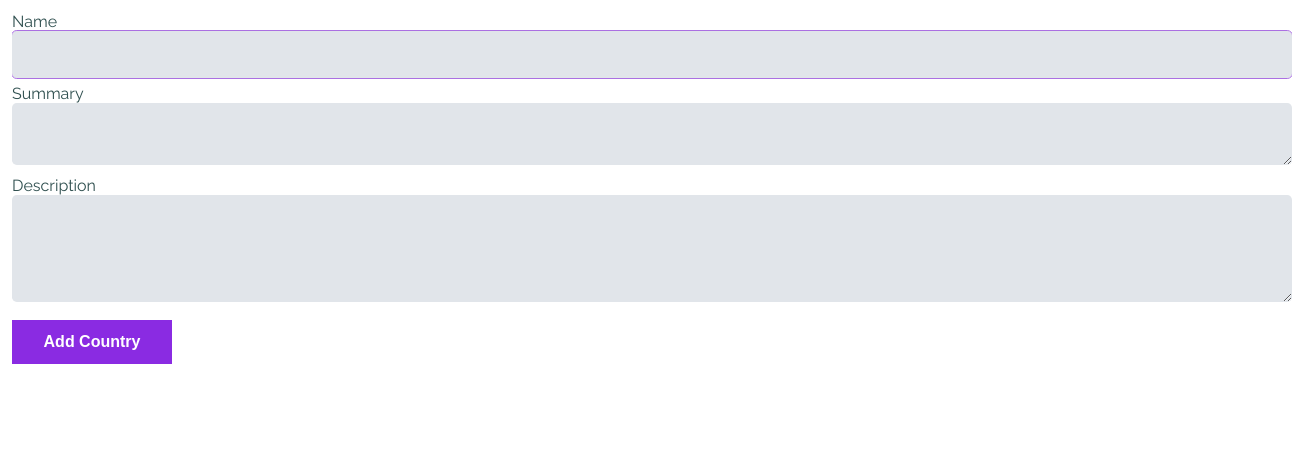
it: Adding a country, unhappy paths › clicking on the Add country button does not add the country when the name is invalid
Step 1. Type "test name 123" into the field labelled "Name" → (652, 54), box [12,31,1292,78]
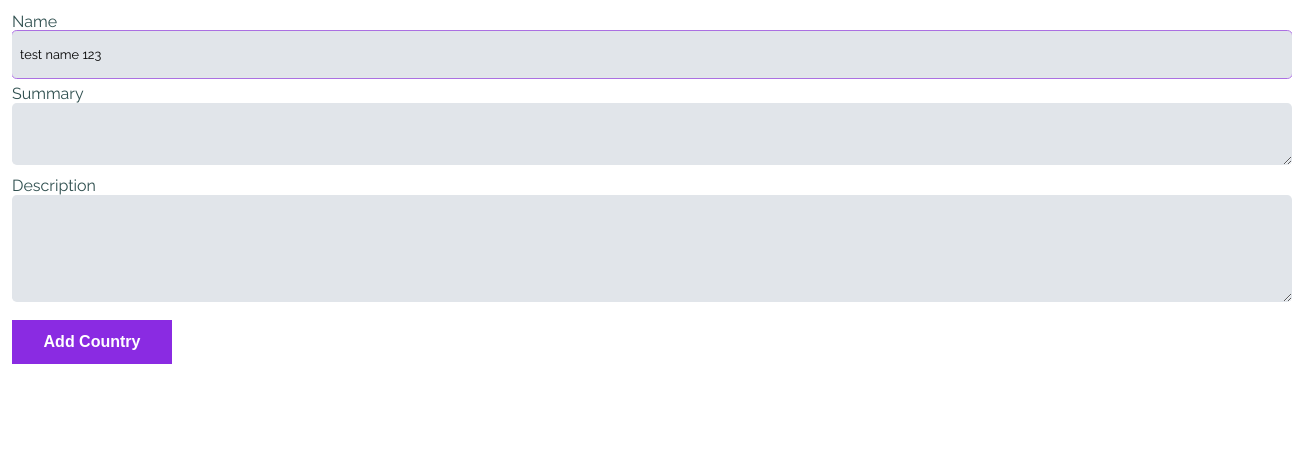
Step 2. Type "test description" into the text box labelled "Description" → (652, 248), box [12,195,1292,302]
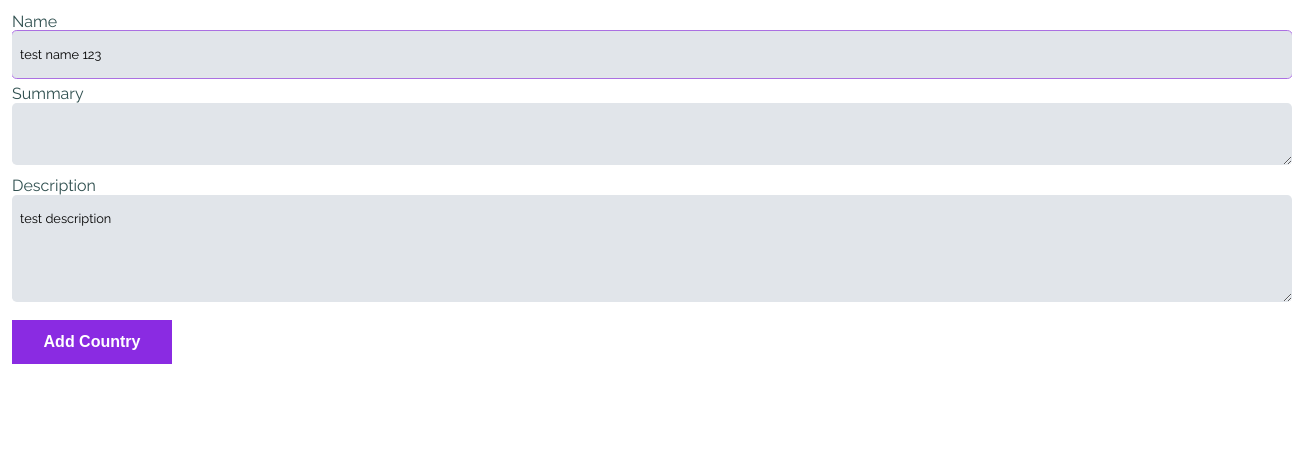
Step 3. Type "test summary" into the text box labelled "Summary" → (652, 134), box [12,103,1292,165]
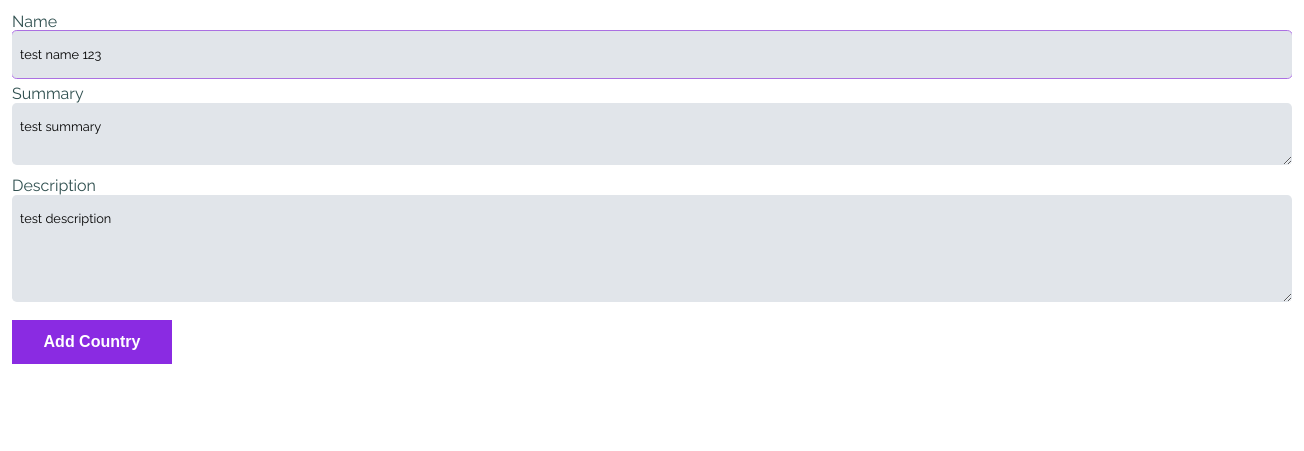
Step 4. Click the button "Add Country" → (92, 342), box [12,320,172,364]
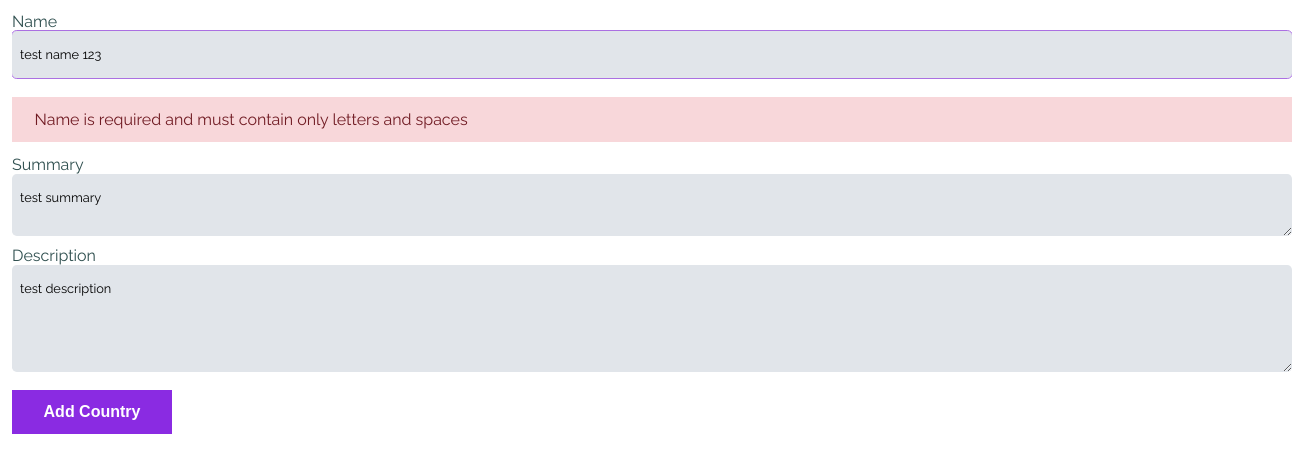
Now the text "Name is required and must contain only letters and spaces" is shown, box [12,97,1292,142]
